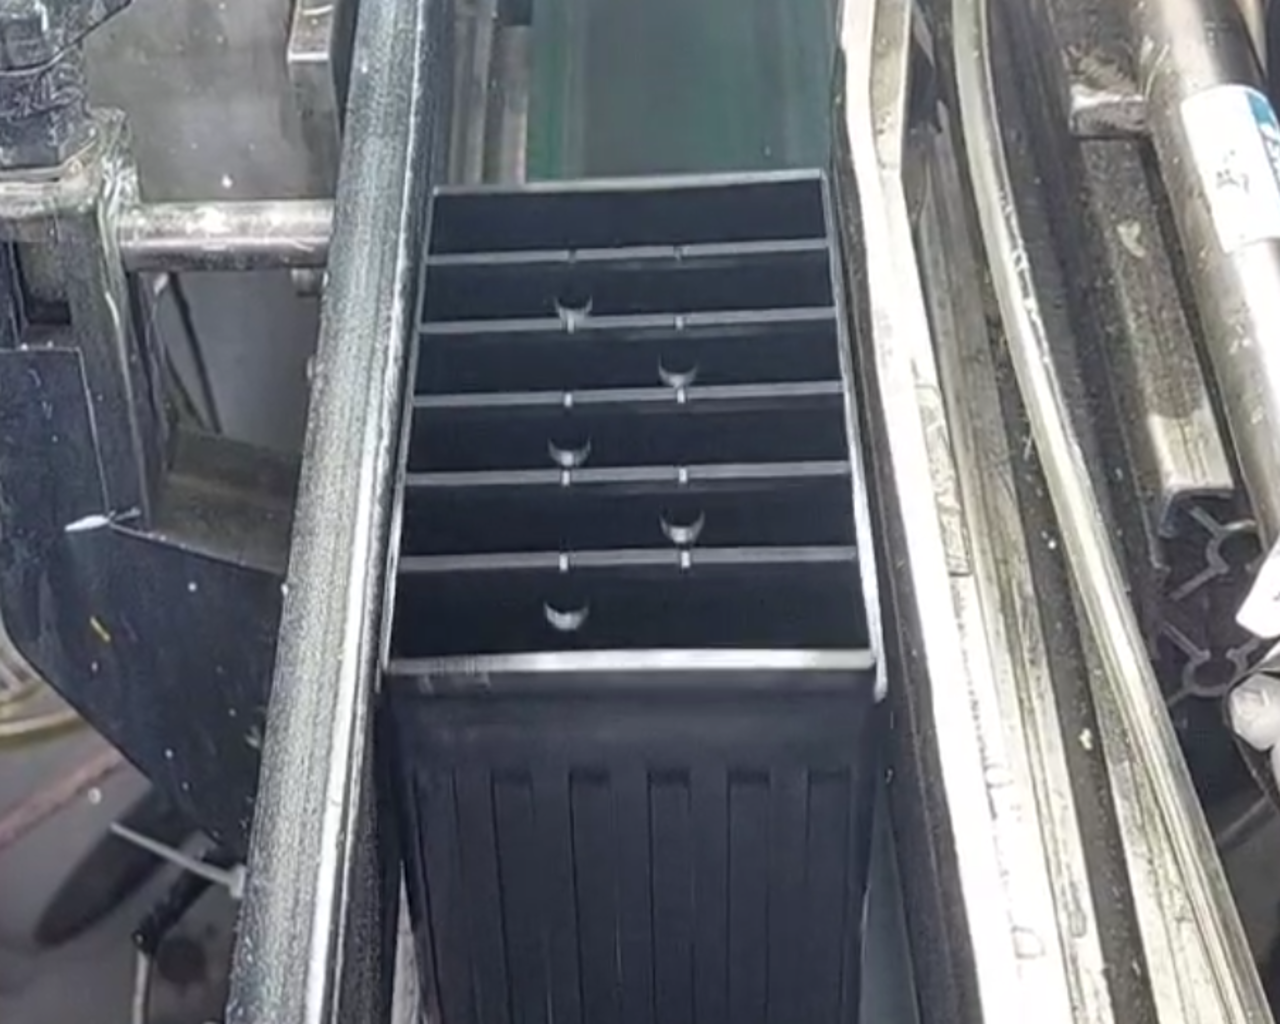box: (362, 160, 904, 716)
round: (533, 576, 599, 638), (536, 410, 599, 472), (647, 333, 708, 394), (652, 491, 715, 550), (542, 273, 602, 324)
